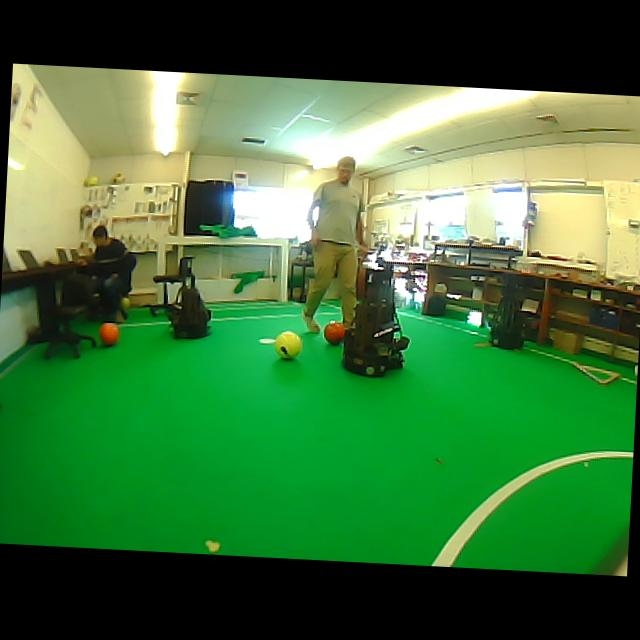ball: (275, 331, 302, 359), (324, 322, 345, 345), (100, 323, 119, 346), (120, 297, 130, 319), (112, 173, 126, 184), (84, 175, 98, 186)
goal: (279, 239, 289, 301)
robot: (342, 267, 409, 376), (168, 257, 209, 338), (491, 275, 524, 349)
